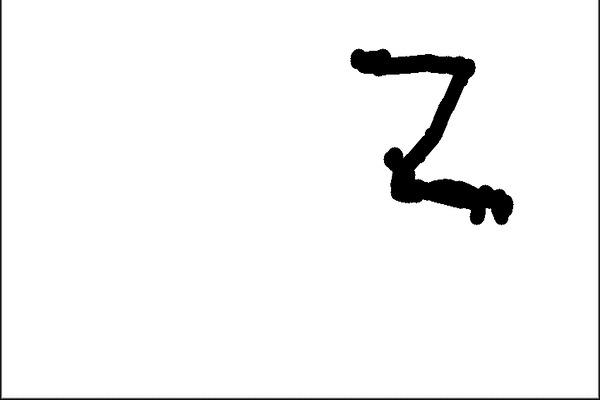Z: (335, 30, 531, 238)
